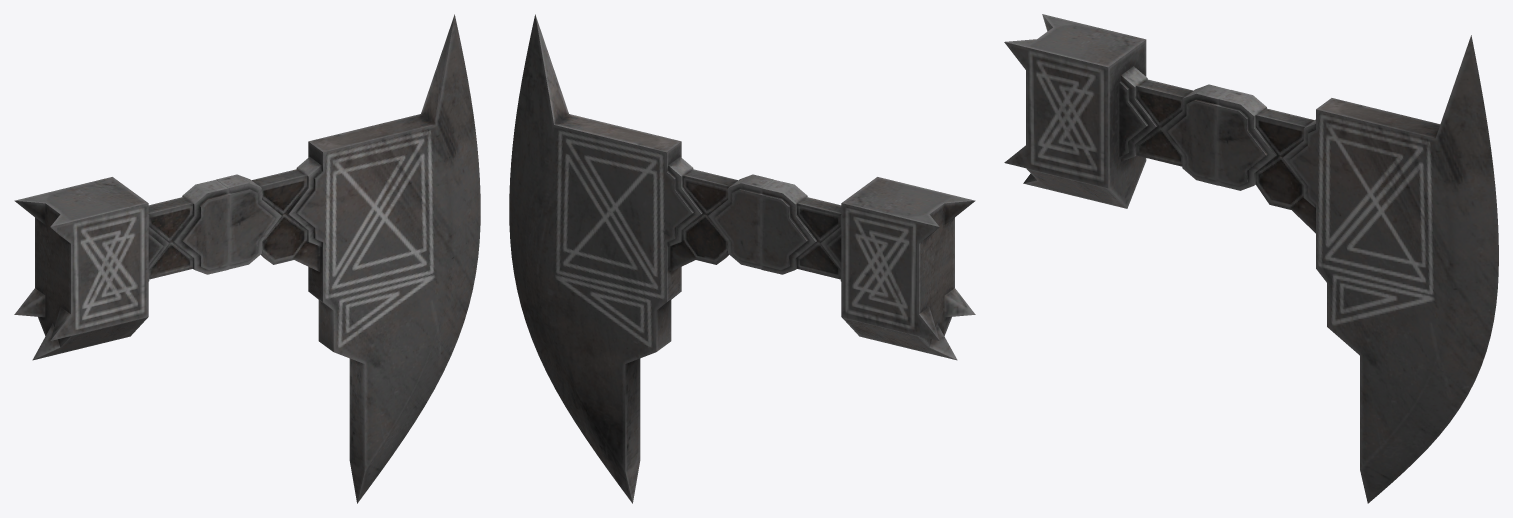
The model's file is sm_dwarf_erebor_axe_blade_2h_b.fbx.
3 views of the same model, side by side, from view 1: azimuth 30°, elevation 25°; view 2: azimuth 150°, elevation 25°; view 3: azimuth 330°, elevation 25° (orthographic). The views are drawn at different scales.
Visible parts, largest first — view 1: sm_dwarf_erebor_axe_blade_2h_b; view 2: sm_dwarf_erebor_axe_blade_2h_b; view 3: sm_dwarf_erebor_axe_blade_2h_b.
Boxes of the visible parts, bbox=[...] form: sm_dwarf_erebor_axe_blade_2h_b: bbox=[14, 14, 480, 503]; sm_dwarf_erebor_axe_blade_2h_b: bbox=[509, 14, 975, 503]; sm_dwarf_erebor_axe_blade_2h_b: bbox=[1004, 14, 1498, 503].
Bounding box in the file's own units: 0.4322 × 0.06 × 0.4292.
Materials: 1 (1 with a texture image).
